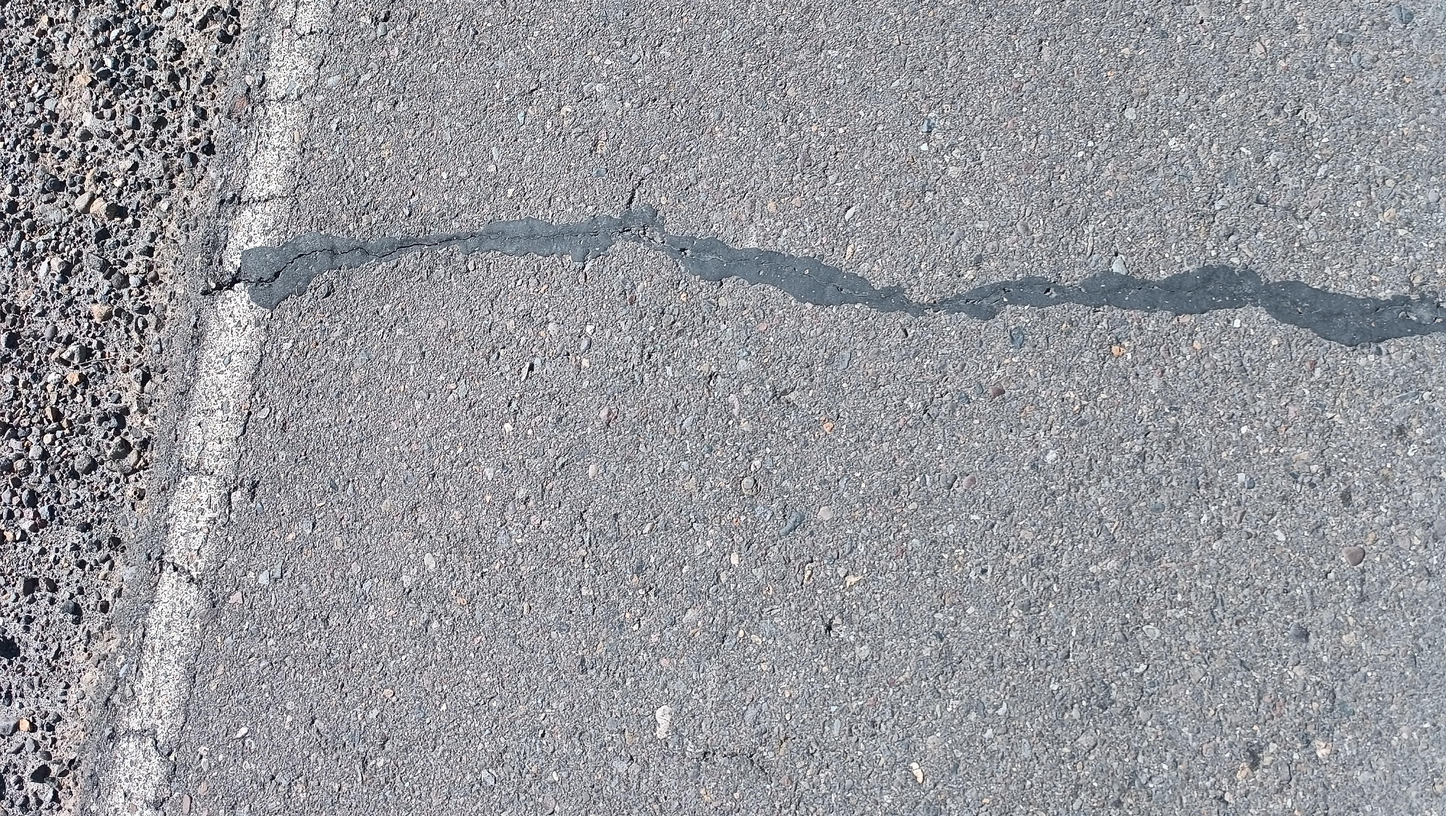GRIETA: (620, 228, 912, 306), (264, 233, 581, 284), (200, 277, 261, 296)
